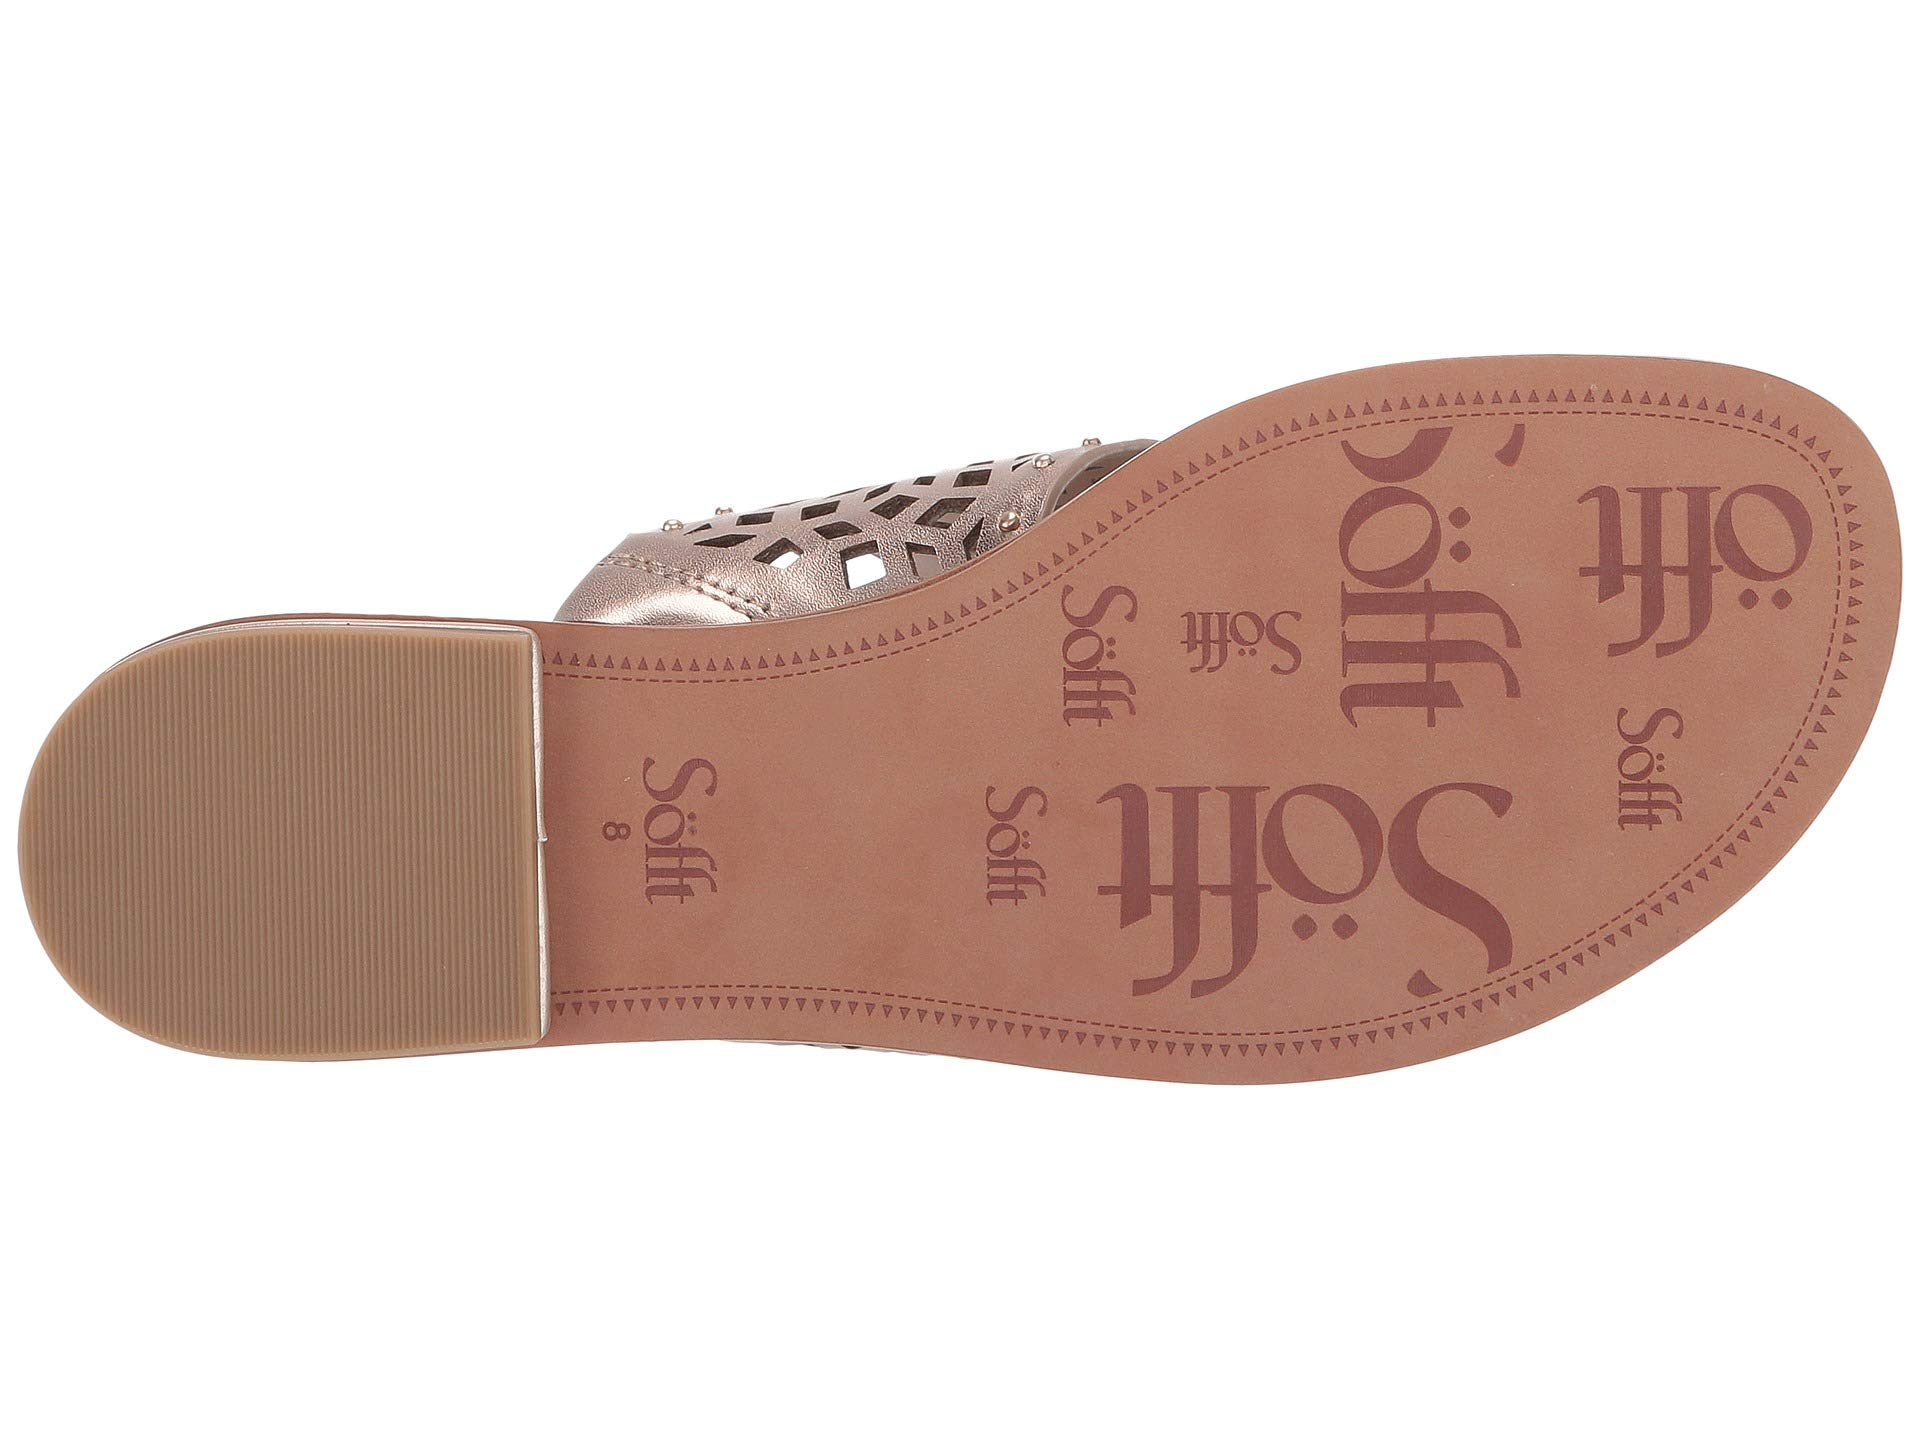circle: (1028, 561, 1542, 1030)
text: (1028, 561, 1542, 1030)
